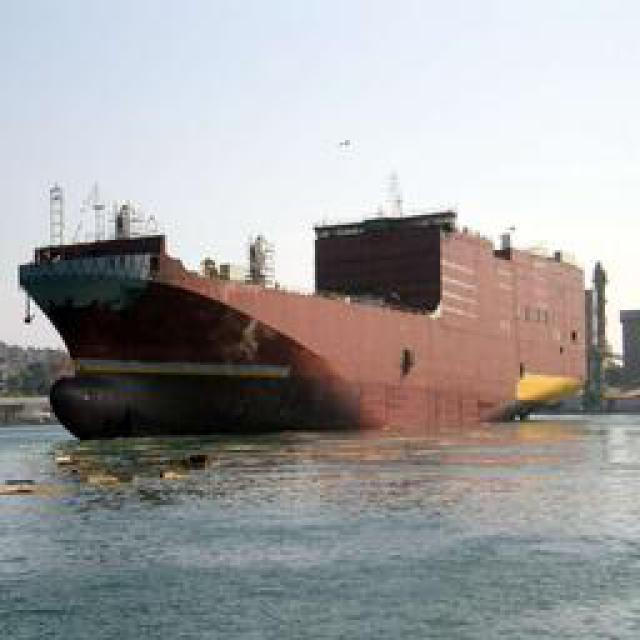Ship: (29, 221, 382, 441)
